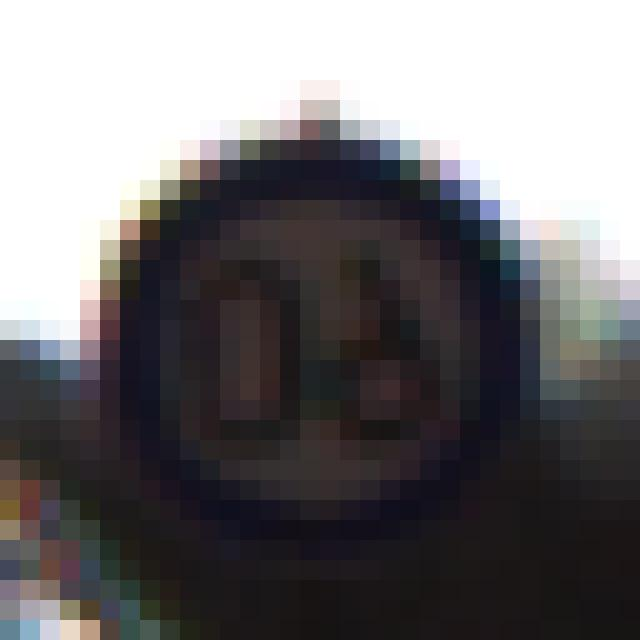SPEED-LIMIT-60: (108, 158, 520, 546)
